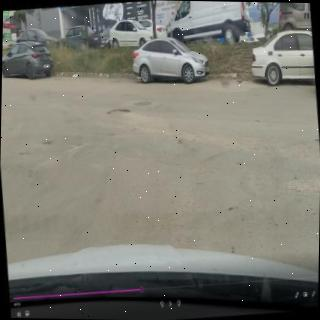pothole: (106, 108, 129, 115)
